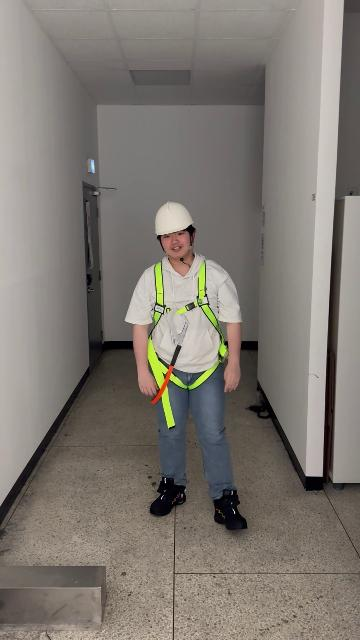helmet_worn: (153, 199, 195, 236)
shoe_worn: (148, 477, 186, 517), (213, 490, 247, 530)
vest_worn: (142, 256, 233, 429)
